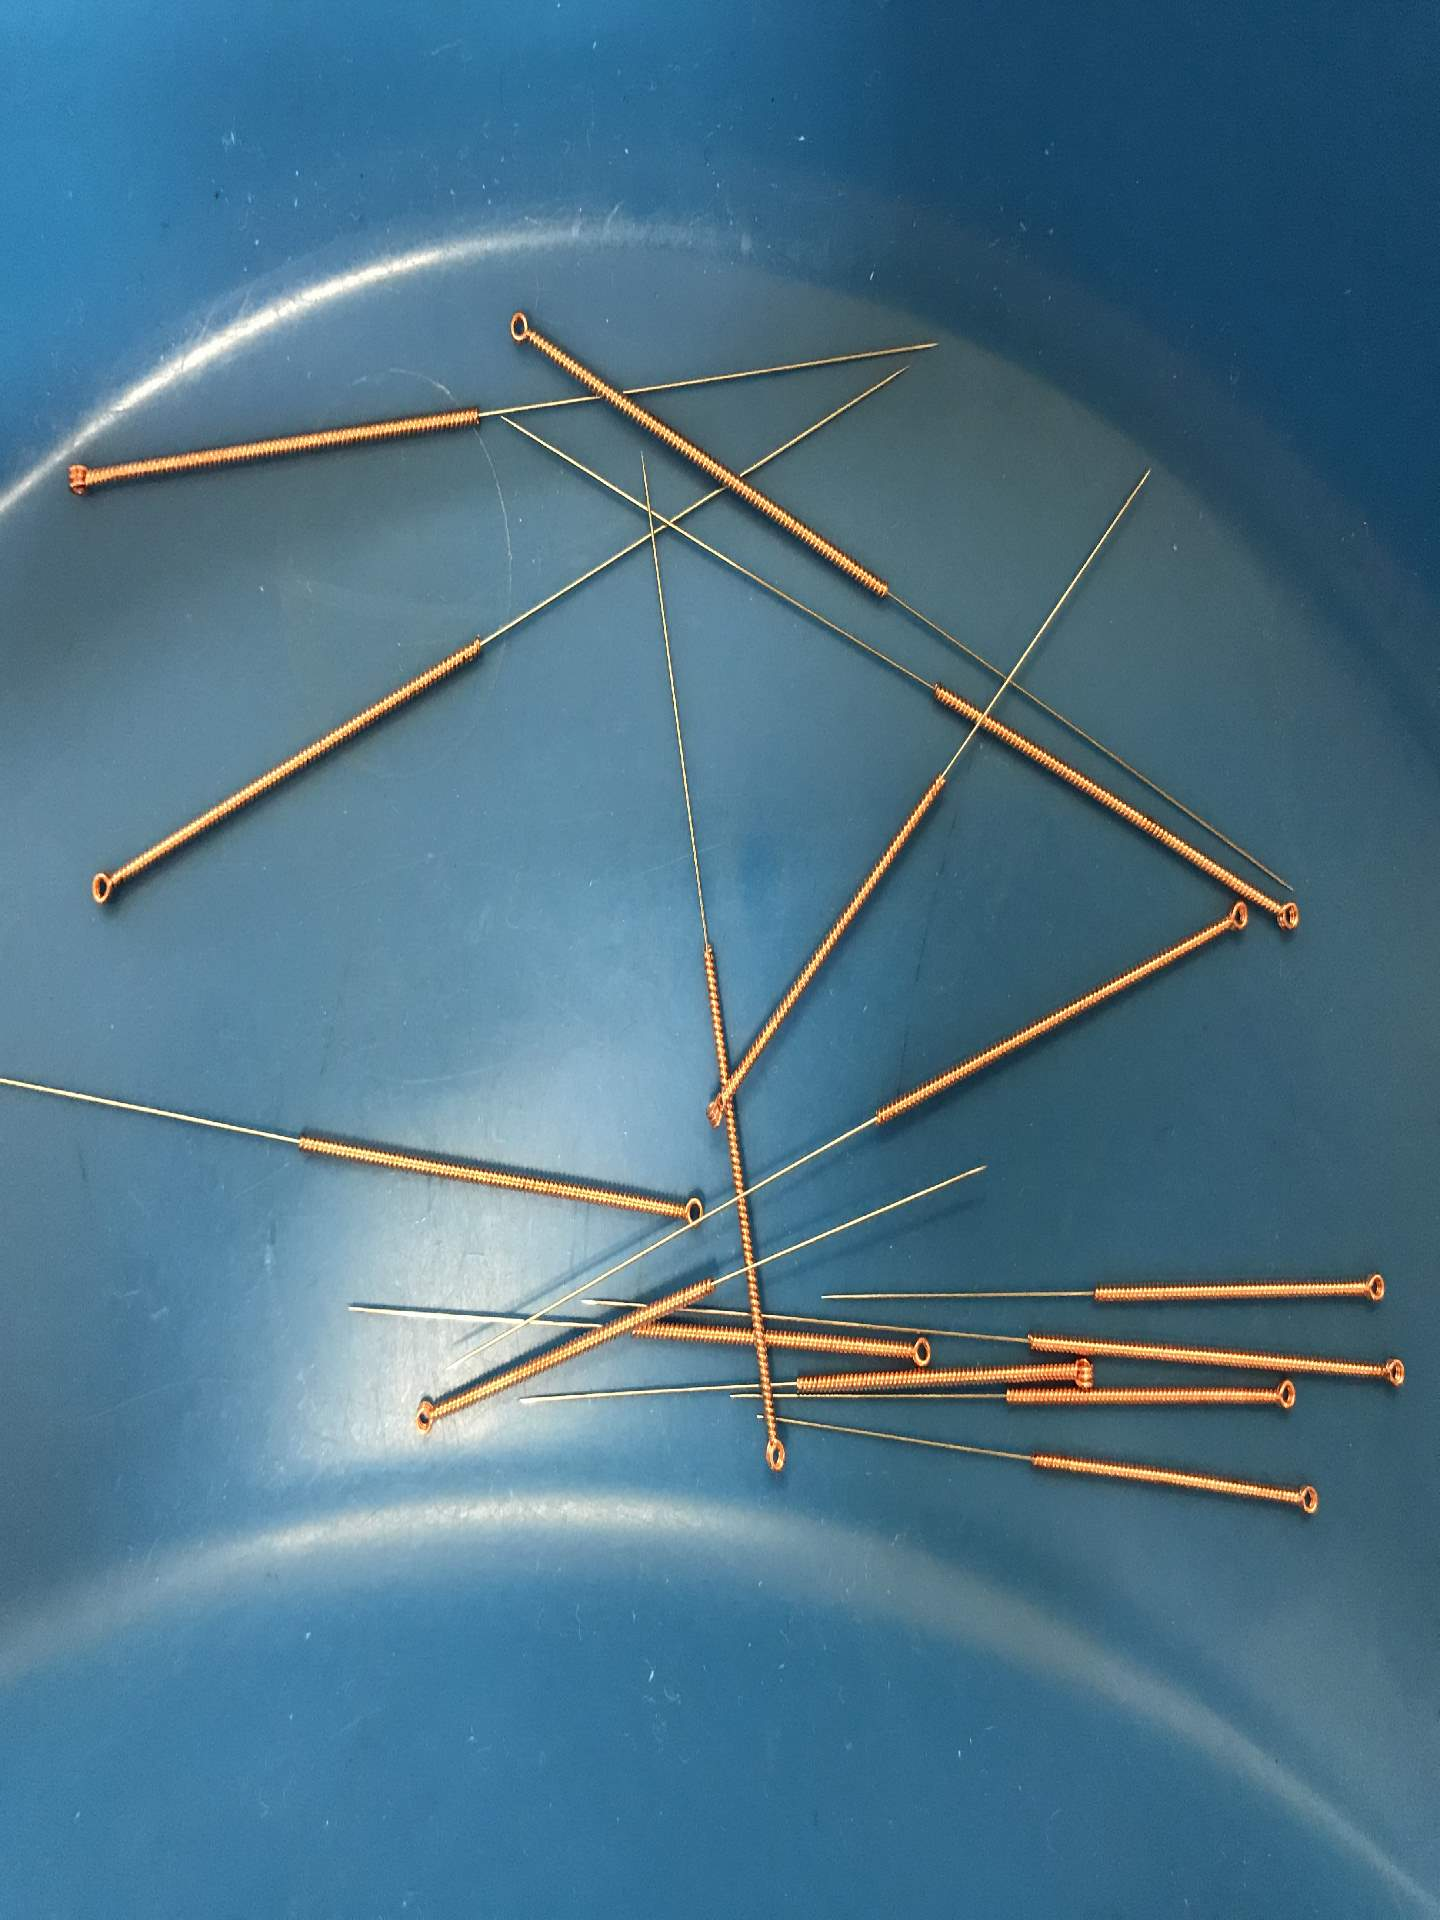needle: (47, 447, 112, 511), (74, 856, 133, 916), (1274, 1474, 1336, 1527), (750, 1420, 796, 1489), (495, 299, 551, 355), (1342, 1259, 1398, 1315), (402, 1383, 457, 1438), (1260, 887, 1311, 940), (659, 1185, 712, 1237), (1361, 1347, 1414, 1397), (1257, 1374, 1305, 1418), (889, 1333, 942, 1370), (1051, 1355, 1103, 1391), (1212, 897, 1252, 940), (693, 1089, 729, 1134)
